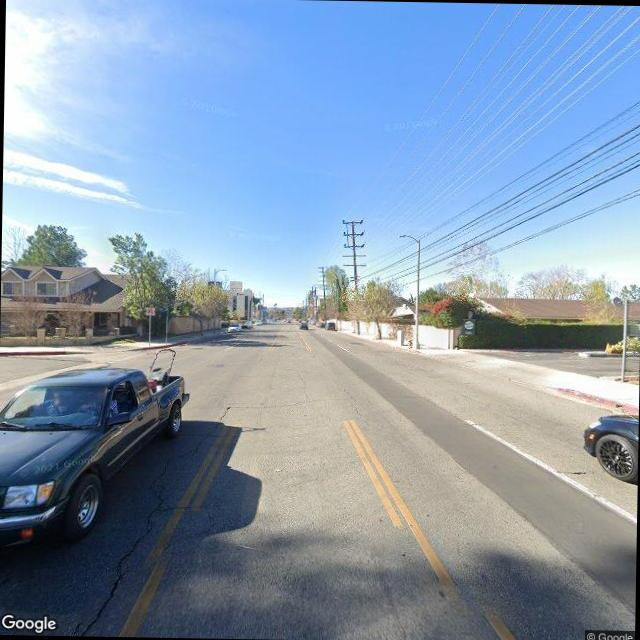crack: (78, 398, 232, 636), (220, 387, 358, 408)
